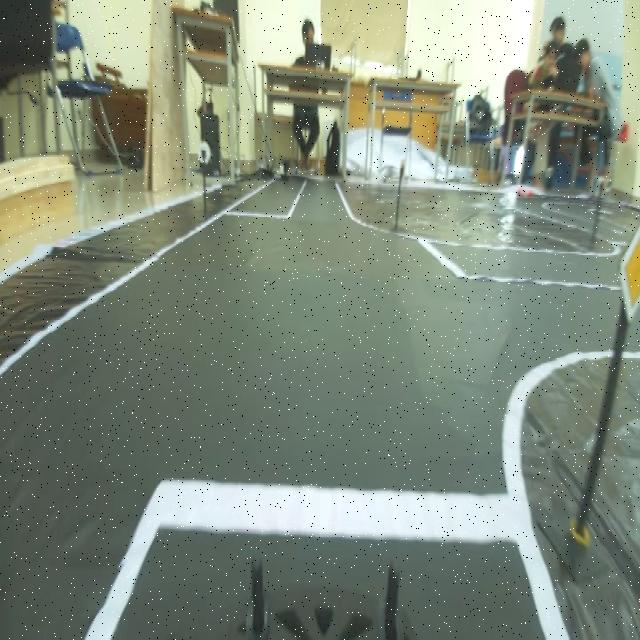priority: (610, 217, 640, 322)
